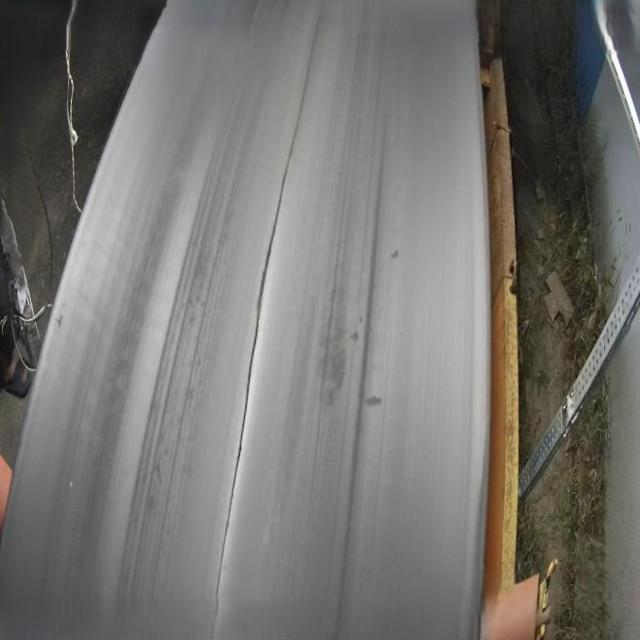Tear: (207, 0, 334, 640)
